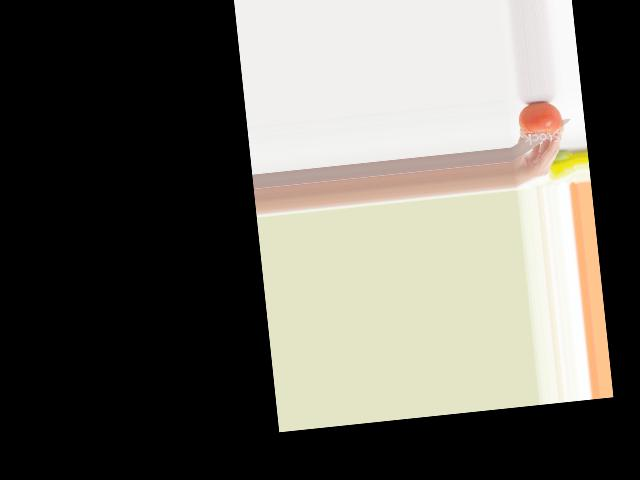tomato: (516, 99, 563, 137)
